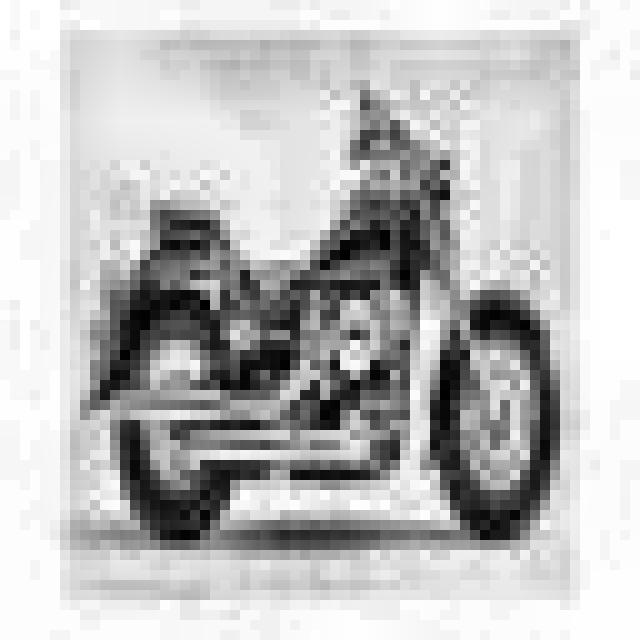mopeds: (85, 132, 582, 553)
